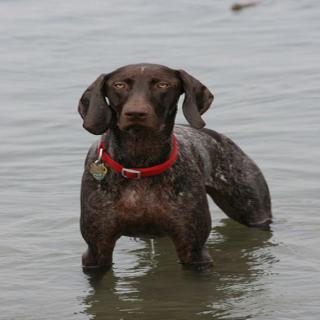dog: (74, 55, 214, 154)
nose: (122, 103, 153, 123)
